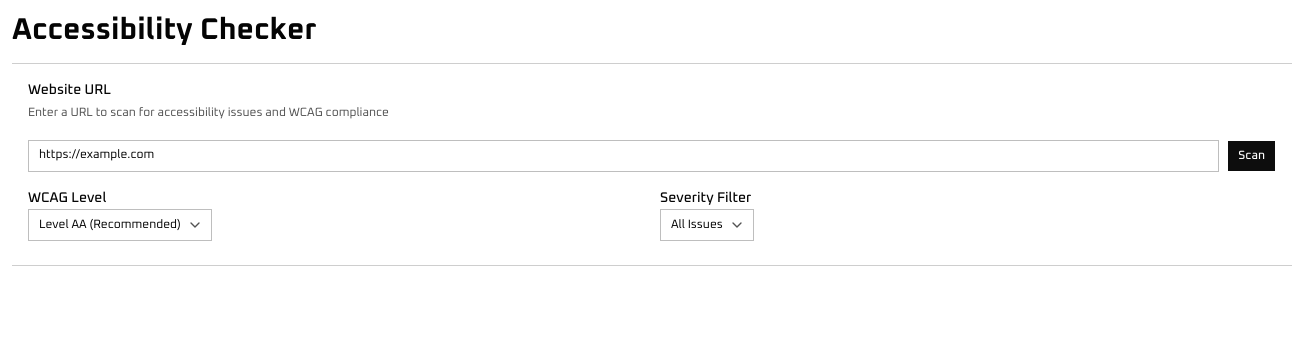
it: Accessibility Checker › displays error message when scan fails
Click the button "Scan": click(1252, 156) [1227,140,1276,172]
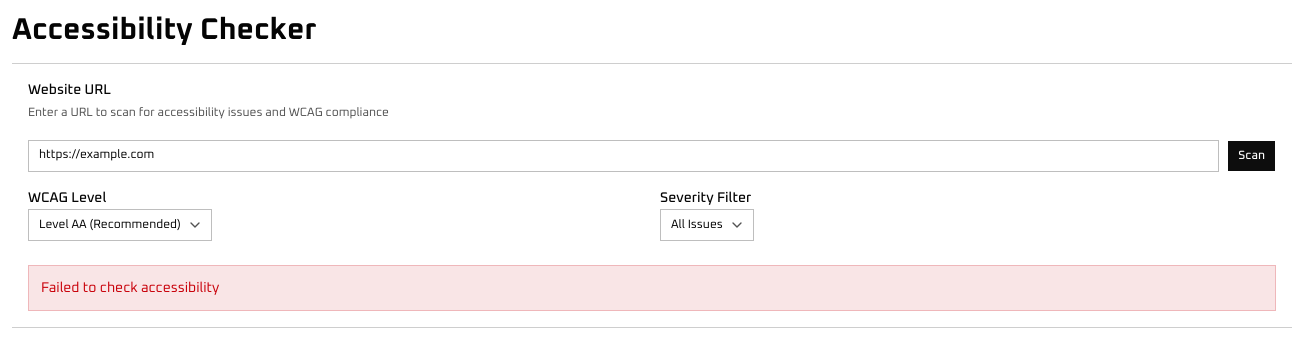
Expected: the text "Failed to check accessibility" is shown, [28,265,1276,311]
